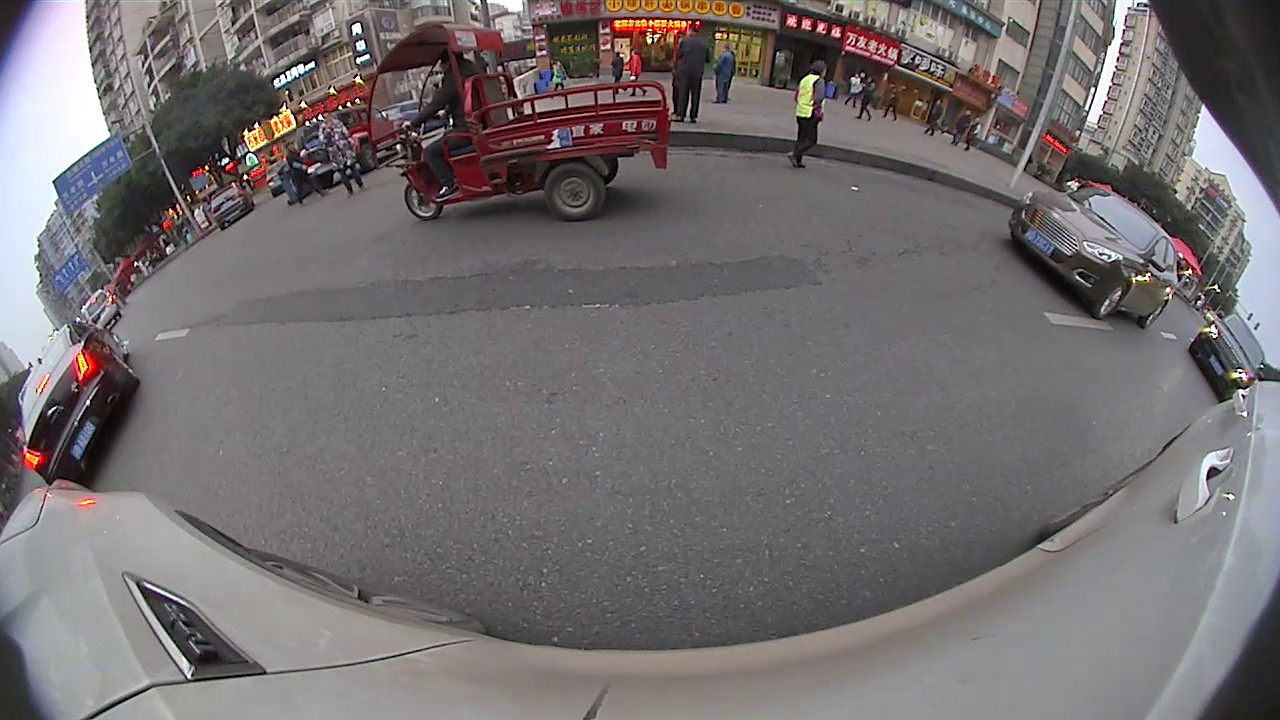car: (1006, 182, 1184, 331), (12, 317, 139, 495), (1188, 306, 1269, 404), (203, 183, 258, 233), (77, 283, 123, 335)
front: (400, 180, 447, 223)
person: (789, 58, 830, 171), (674, 18, 712, 134), (318, 107, 357, 198)
rear: (540, 160, 609, 226)
rider: (363, 18, 675, 223)
